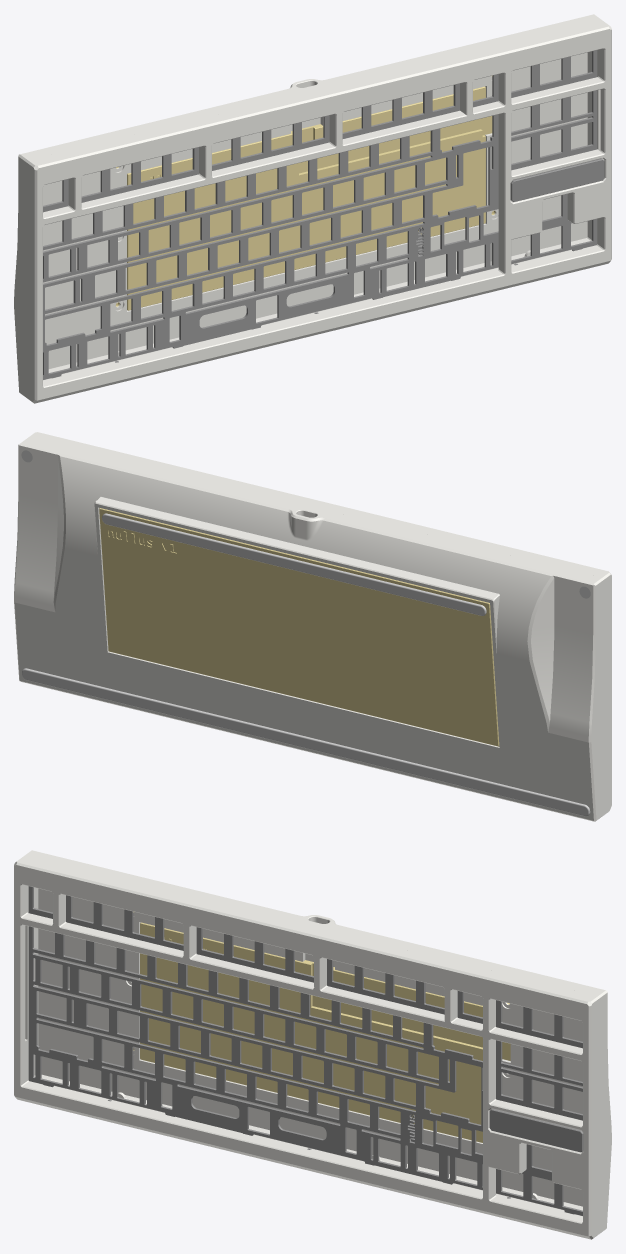
Rendered from Case v94.fbx.
3 renders of one model, top to bottom at view 1: azimuth 30°, elevation 25°; view 2: azimuth 150°, elevation 25°; view 3: azimuth 330°, elevation 25°, orthographic.
Parts seen in each view (by area): view 1: Body1 (×4), Body3; view 2: Body3, Body1 (×4); view 3: Body1 (×4), Body3.
Boxes of the visible parts, left/top/right/bottom form: Body1 (×4): left=26, top=20, right=611, bottom=403; Body3: left=14, top=14, right=601, bottom=397; Body3: left=14, top=437, right=603, bottom=821; Body1 (×4): left=22, top=432, right=611, bottom=816; Body1 (×4): left=14, top=856, right=599, bottom=1239; Body3: left=24, top=850, right=611, bottom=1233.
Bounding box in the file's own units: 358 × 142 × 33.29.
